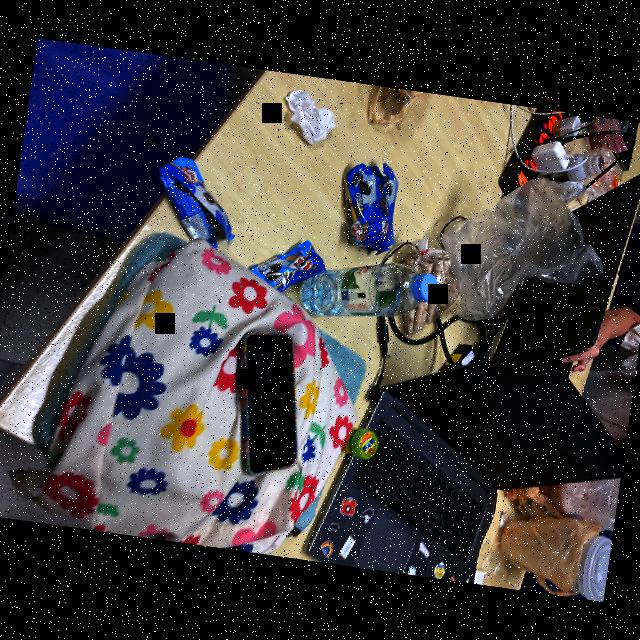plastic_bag: (428, 176, 614, 346), (488, 511, 600, 600), (358, 85, 432, 146), (498, 478, 557, 524)
plastic_bottle: (289, 249, 445, 338), (540, 145, 609, 195)
plastic_bottle_cap: (406, 269, 444, 312)
plastic_cup: (536, 467, 620, 522)
plastic_cup_lid: (568, 530, 612, 602)
scrap_paper: (272, 84, 342, 150)
snack_bag: (150, 151, 244, 255), (332, 158, 408, 258), (398, 242, 468, 346), (242, 232, 332, 304)
